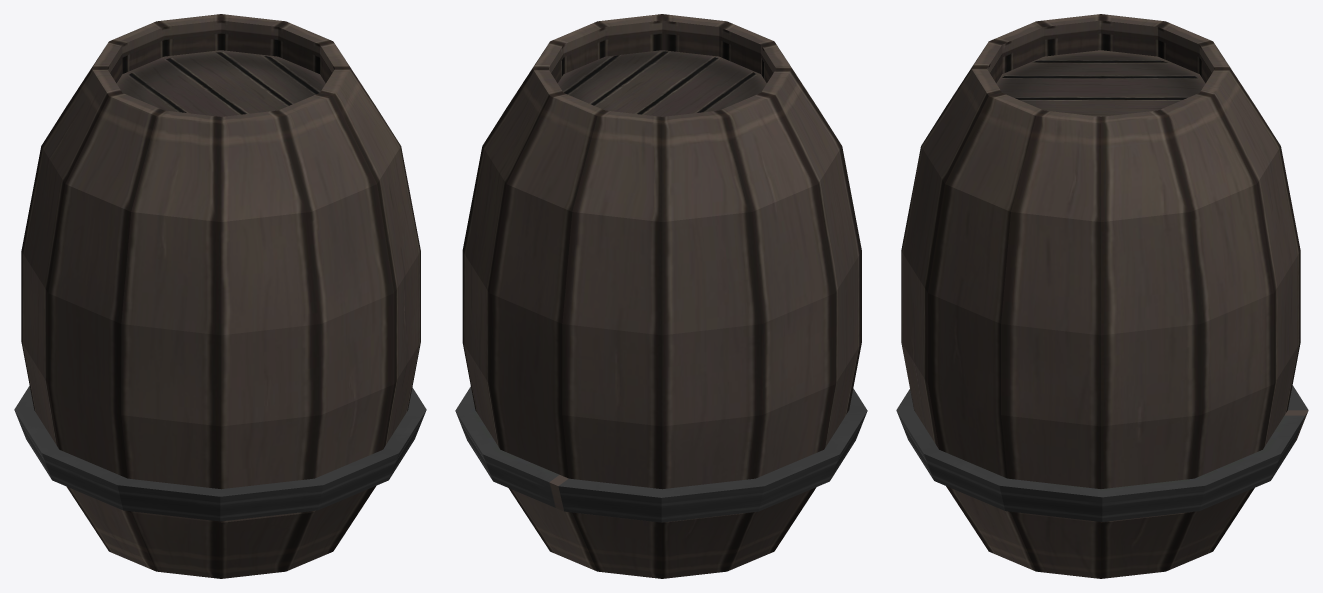
The model's file is r酒桶 組合.fbx.
The picture shows the model from 3 angles, left to right: view 1: azimuth 30°, elevation 25°; view 2: azimuth 150°, elevation 25°; view 3: azimuth 270°, elevation 25°; orthographic projection.
Parts seen in each view (by area): view 1: Cylinder.002; view 2: Cylinder.002; view 3: Cylinder.002.
Boxes of the visible parts, box(x1,y1,x2,y2) form: Cylinder.002: box(14, 14, 426, 578); Cylinder.002: box(455, 14, 867, 578); Cylinder.002: box(896, 14, 1308, 578).
Size of the model in its own units: 52.52 by 64 by 52.52.
Materials: 2 (2 with a texture image).
